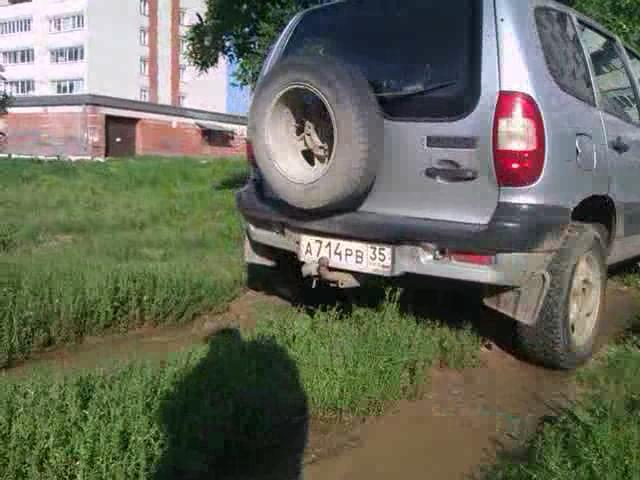car license plate: (296, 228, 397, 287)
